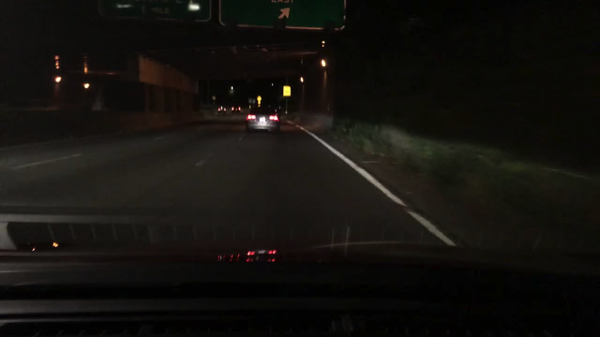car: (246, 104, 280, 133), (216, 104, 226, 113), (230, 105, 242, 112)
traffic sign: (219, 0, 346, 32), (98, 1, 211, 22), (282, 86, 290, 97), (248, 98, 255, 104), (256, 96, 260, 101)
